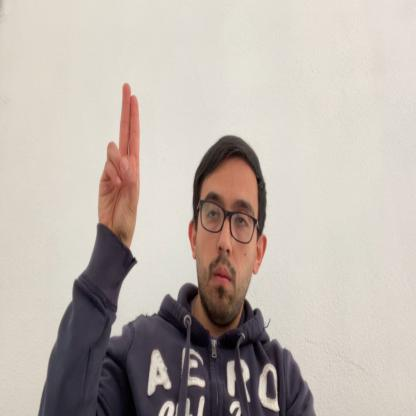U: (97, 82, 141, 253)
